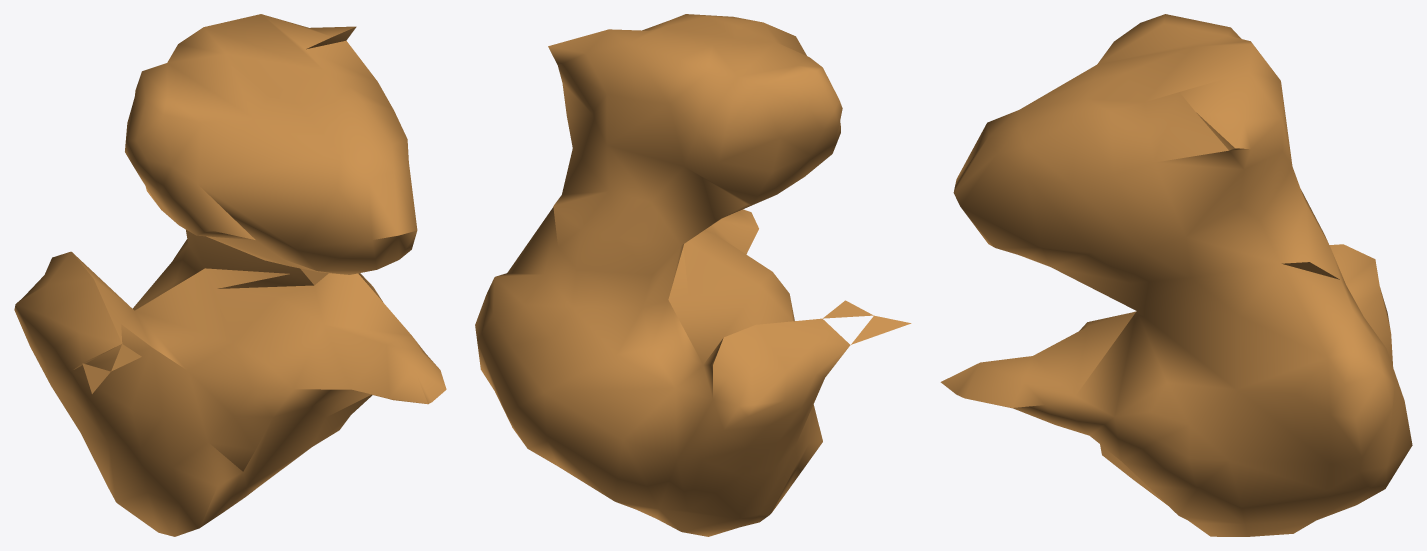
The model's file is spl-387.glb.
3 views of the same model, side by side, from view 1: azimuth 30°, elevation 25°; view 2: azimuth 150°, elevation 25°; view 3: azimuth 270°, elevation 25° (orthographic). The views are drawn at different scales.
Visible parts, largest first — view 1: spl-387; view 2: spl-387; view 3: spl-387.
Boxes of the visible parts, bbox=[...] form: spl-387: bbox=[14, 14, 446, 536]; spl-387: bbox=[475, 14, 911, 536]; spl-387: bbox=[940, 14, 1412, 536].
Size of the model in its own units: 6.61 by 8.92 by 7.65.
